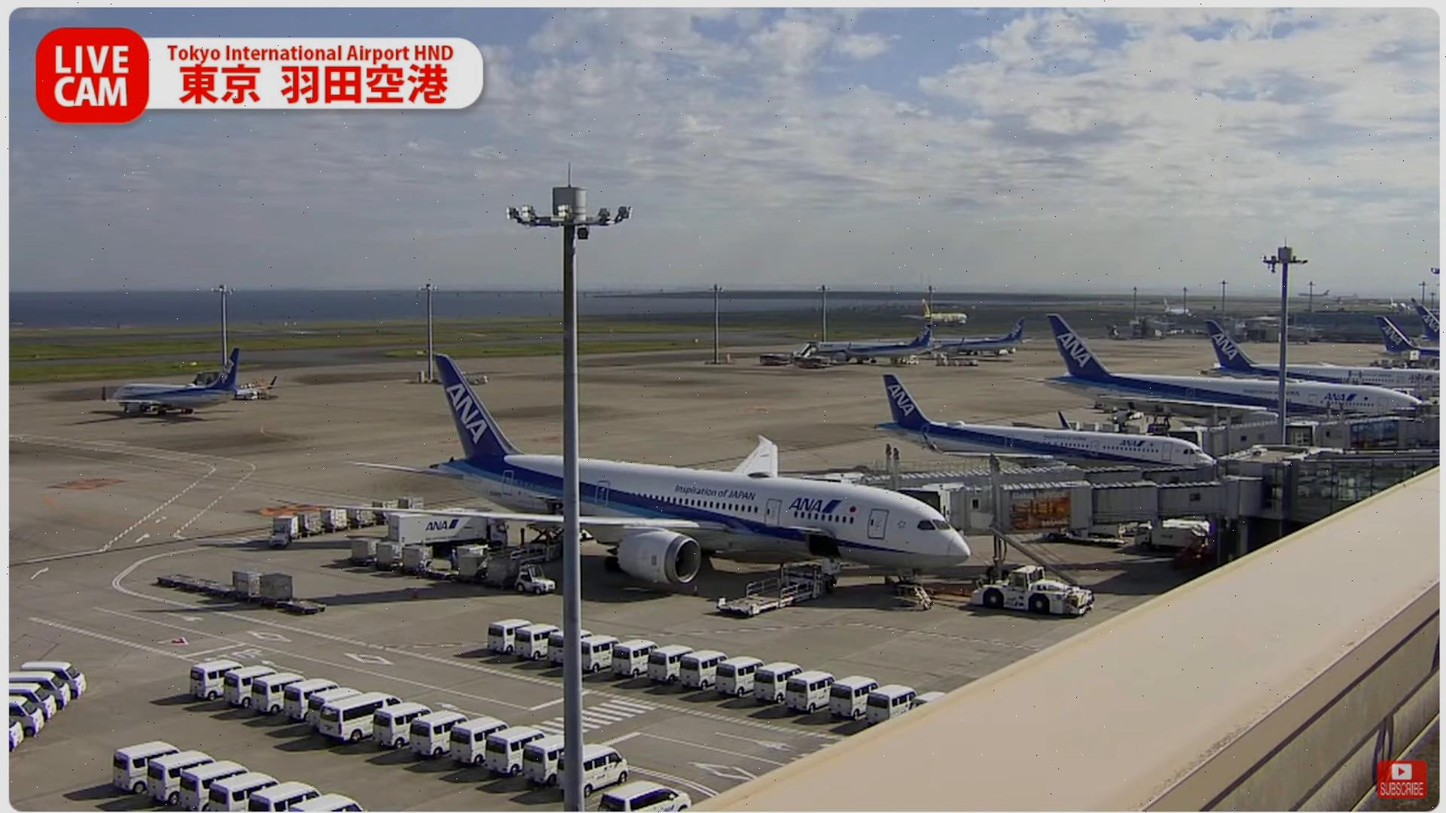APS: (969, 564, 1106, 619)
Aerobridge: (896, 476, 1261, 541), (843, 457, 1217, 496)
Airplane: (330, 354, 973, 599)
Catering: (387, 505, 503, 562)
Dolly: (350, 534, 510, 593), (157, 564, 332, 616), (271, 494, 429, 539)
JCPL: (714, 553, 842, 618), (481, 516, 567, 568)
Tractor: (516, 567, 559, 596), (266, 531, 291, 545)
Window: (1290, 456, 1440, 523)
